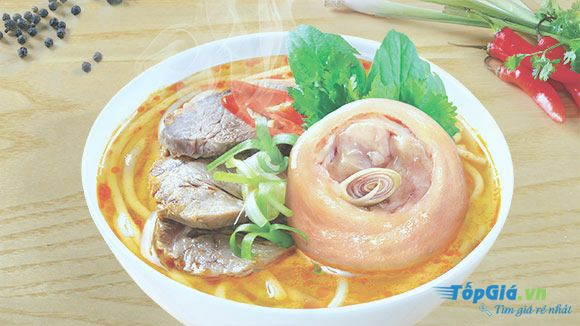beef: (155, 219, 278, 276), (155, 154, 245, 221), (165, 102, 239, 148)
pork: (284, 101, 470, 274)
